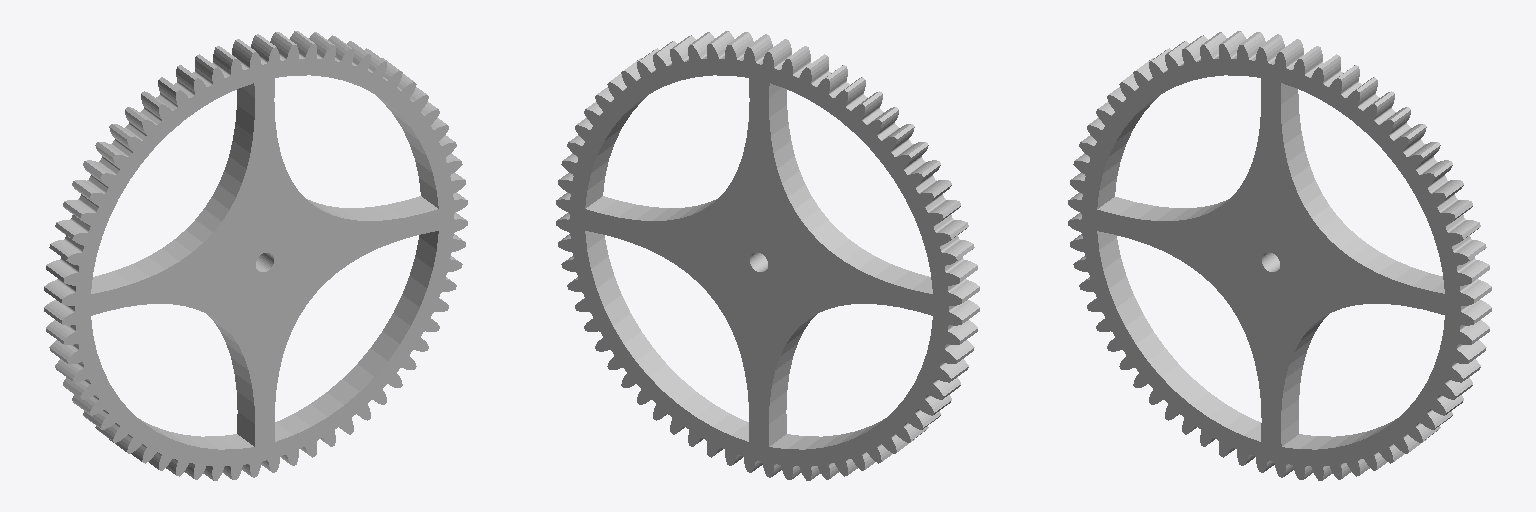
3 views of the same model, side by side, from view 1: azimuth 30°, elevation 25°; view 2: azimuth 150°, elevation 25°; view 3: azimuth 330°, elevation 25° (orthographic).
Visible parts, largest first — view 1: mmGroup0; view 2: mmGroup0; view 3: mmGroup0.
Part boxes in pixels (bbox=[...]): mmGroup0: bbox=[44, 31, 467, 480]; mmGroup0: bbox=[556, 31, 979, 480]; mmGroup0: bbox=[1068, 31, 1491, 480].
Size of the model in its own units: 12.98 by 12.98 by 0.9843.